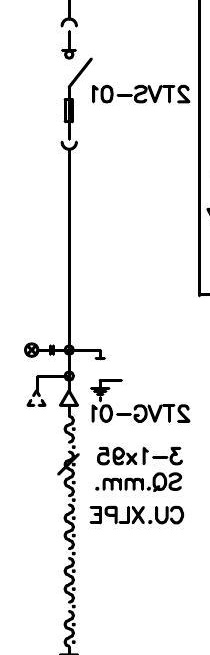22_ds: (59, 17, 94, 152)
22_gs: (89, 357, 124, 403)
22_ll: (23, 342, 55, 359)
terminator_w_future: (26, 375, 80, 407)
